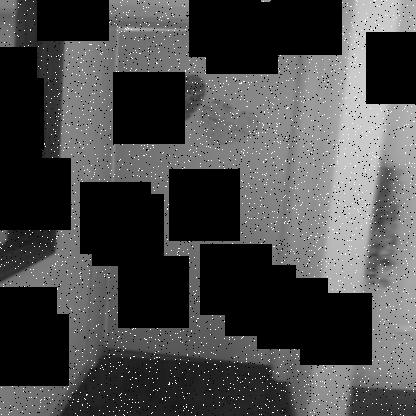Porte: (86, 0, 332, 387)
